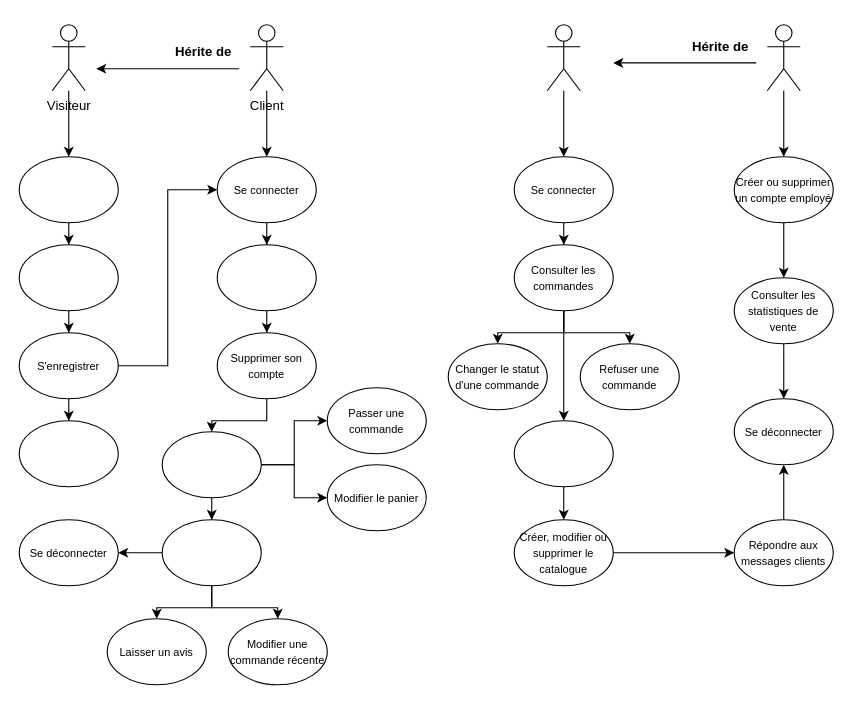
Image size: 853x704. Some labels were removed from this diagram. The centre of each missing label's shape, as x and y in pixels:
Accéder au panier: point (211, 464)
Administrateur: point (783, 57)
Consulter le catalogue (menus): point (68, 189)
Consulter une commande actuelle ou passée: point (211, 552)
Contacter le service traiteur: point (68, 453)
Modifier son profil: point (266, 277)
Staff - Employé: point (563, 57)
Valider ou refuser un avis: point (563, 453)
Voir le détail d'un menu: point (68, 277)
